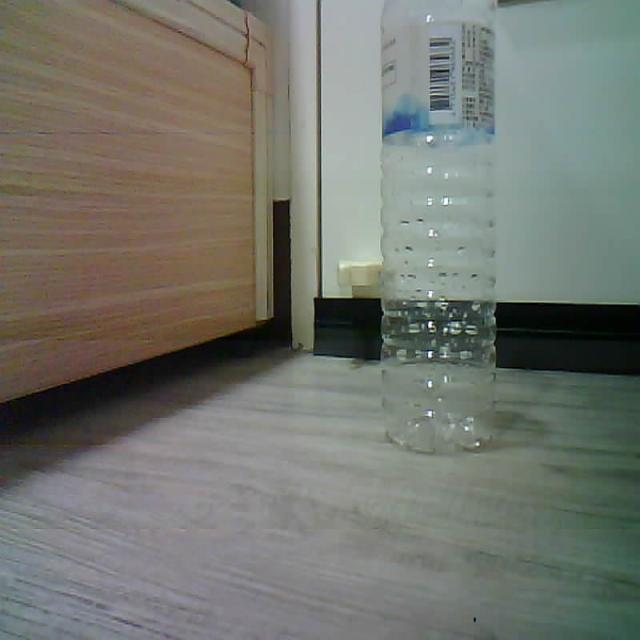bottle: (381, 0, 496, 451)
